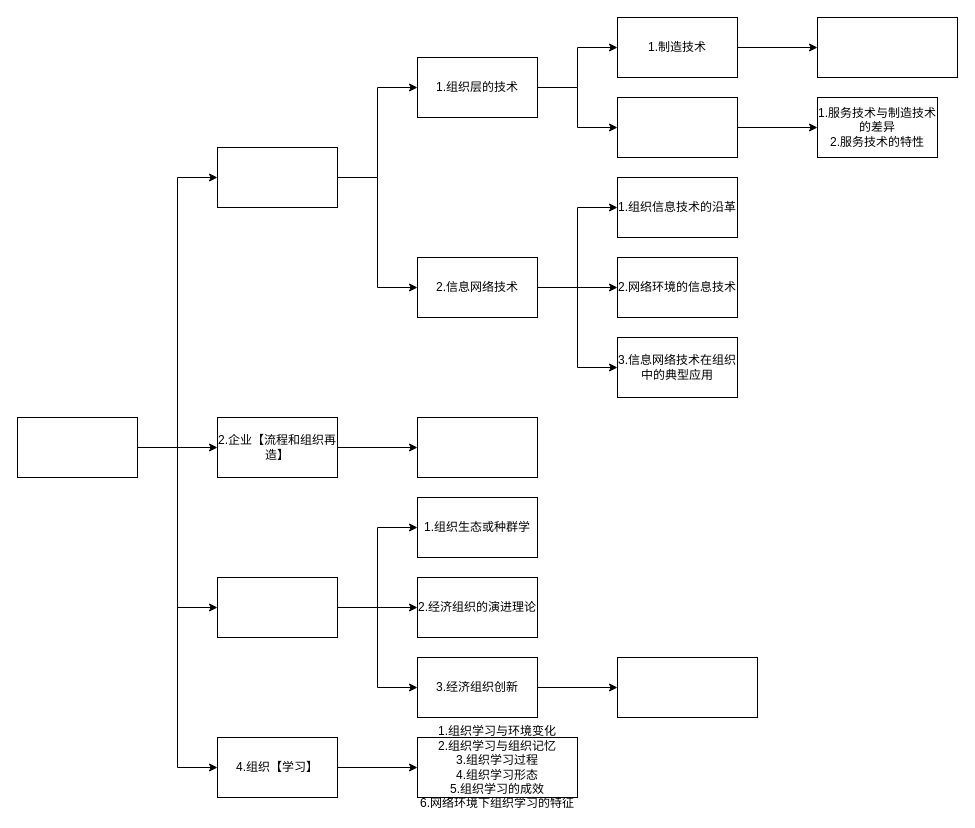
This 975x828 diagram has some shape labels left out. The shapes that lost their labels are listed below. From the top down, each one's centre as x and y in pixels, then its label:
(887,47): 1.传统的制造技术 2.先进制造技术(AMT) 3.技术对工作技能的影响
(677,127): 2.服务技术
(277,177): 1.制造、服务与信息网络技术
(77,447): 组织技术、流程再造与组织创新
(477,447): 1.再造的概念 2.再造的程序 3.再造成功的要点分析 4.组织结构再造
(277,607): 3.组织【演进与创新】
(687,687): 1.创新概念的发展 2.网络环境下的组织创新
